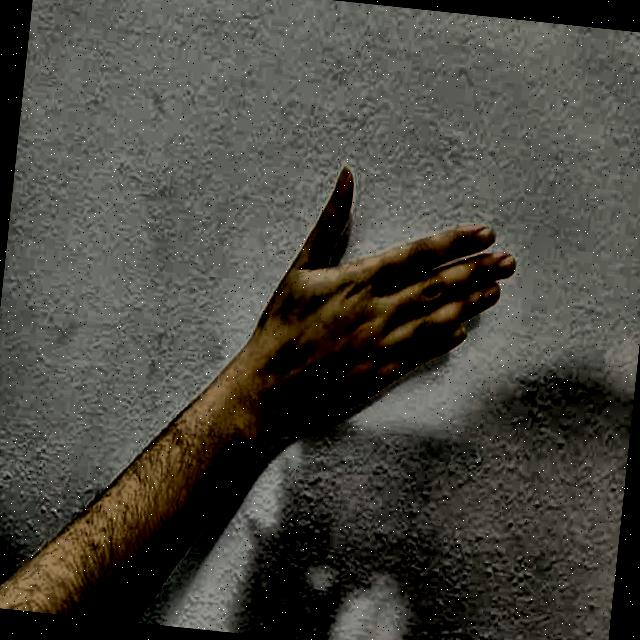Aa: (228, 142, 546, 490)
